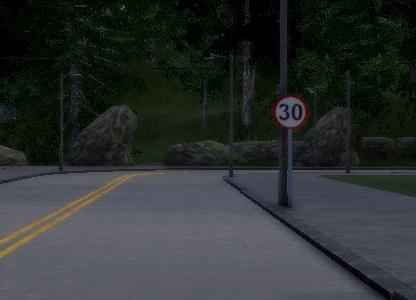Speed_30: (272, 91, 309, 131)
